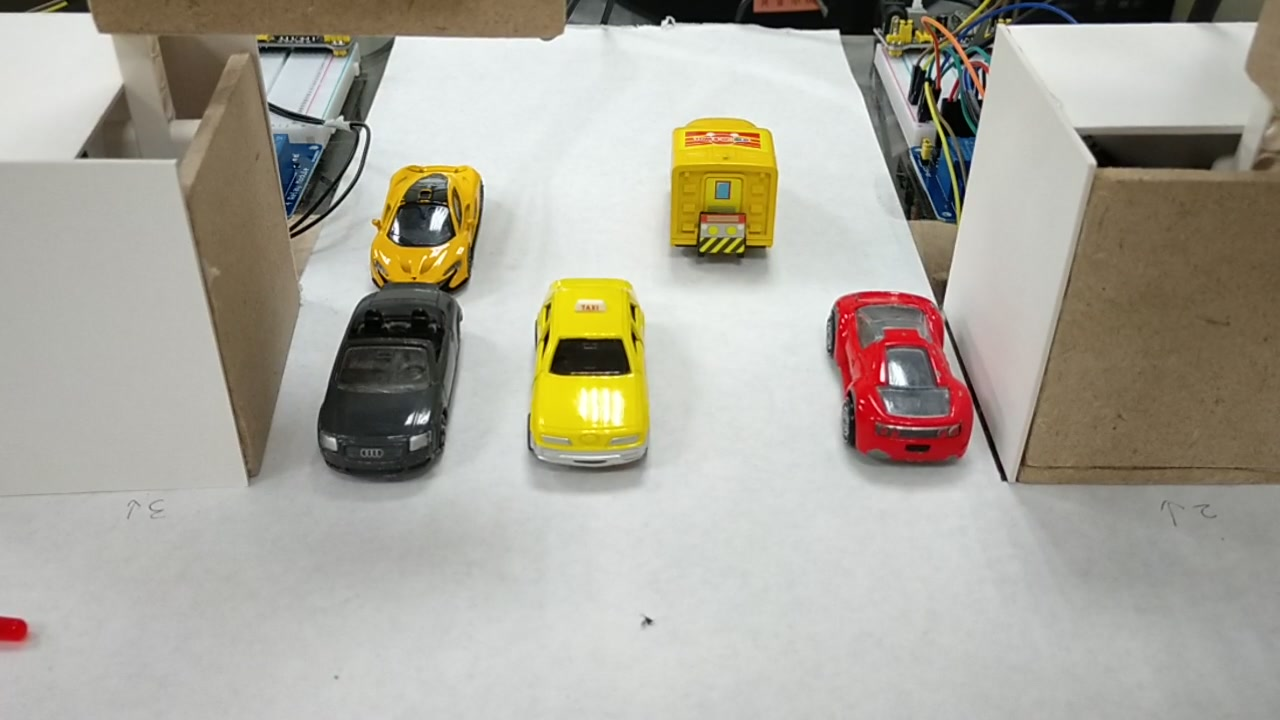car: (822, 286, 980, 472), (319, 285, 465, 479), (522, 279, 652, 472), (366, 166, 487, 285)
